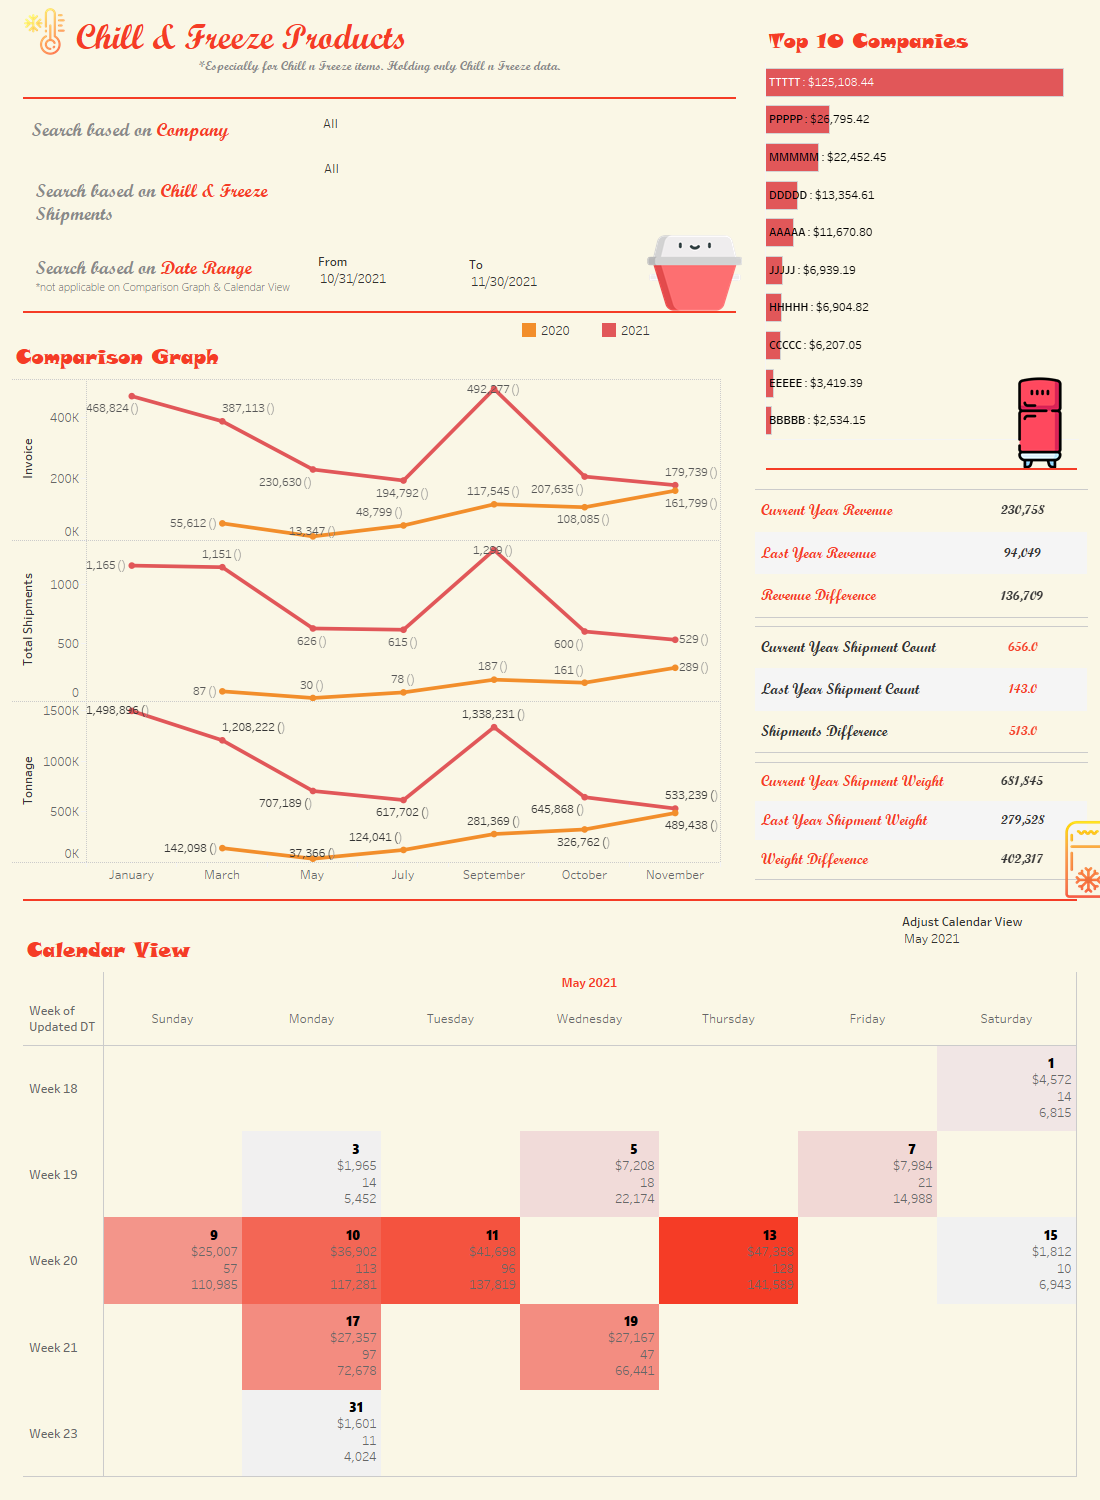

The page's visual inventory and layout, read from the dashboard file:
{"tool":"tableau","page":{"name":"Dashboard","canvas":[1100,1500],"ordinal":0},"visuals":[{"type":"worksheet","box":[0,0,1100,1500]},{"type":"worksheet","param":"horz","box":[8,8,1084,1484]},{"type":"worksheet","box":[8,8,1084,1484]},{"type":"worksheet","box":[8,8,743,74]},{"type":"worksheet","title":"Top 10","mark":"Automatic","rows":["Company"],"cols":["Invoice Total"],"box":[751,8,341,445]},{"type":"worksheet","box":[8,82,743,32]},{"type":"worksheet","box":[29,104,278,51]},{"type":"worksheet","box":[8,114,743,182]},{"type":"worksheet","title":"Line Graph","mark":"Automatic","rows":["Invoice Total","Shipment Id","Total Wt"],"cols":["Updated DT"],"param":"[federated.134bkm10l7k8ly134fc851oywfja].[none:Company:nk]","box":[321,115,187,28]},{"type":"worksheet","title":"Top 10","mark":"Automatic","rows":["Company"],"cols":["Invoice Total"],"param":"[federated.134bkm10l7k8ly134fc851oywfja].[none:Chill and Freeze.:nk]","box":[322,160,160,72]},{"type":"worksheet","box":[33,173,278,58]},{"type":"worksheet","param":"Image/cooler.png","box":[626,225,137,95]},{"type":"worksheet","box":[33,251,264,48]},{"type":"worksheet","param":"[Parameters].[Today Parameter]","box":[318,252,123,44]},{"type":"worksheet","param":"[Parameters].[From (copy)]","box":[469,255,126,44]},{"type":"worksheet","box":[8,296,743,32]},{"type":"worksheet","title":"Line Graph","mark":"Automatic","rows":["Invoice Total","Shipment Id","Total Wt"],"cols":["Updated DT"],"param":"[federated.134bkm10l7k8ly134fc851oywfja].[yr:Updated DT:ok]","box":[519,320,195,27]},{"type":"worksheet","title":"Line Graph","mark":"Automatic","rows":["Invoice Total","Shipment Id","Total Wt"],"cols":["Updated DT"],"box":[8,328,743,555.9]},{"type":"worksheet","param":"Image/fridge.png","box":[994,361,91,124]},{"type":"worksheet","box":[751,453,341,32]},{"type":"worksheet","title":"Revenue Comparison","mark":"Automatic","box":[751,485,341,137]},{"type":"worksheet","title":"Shipments Comparison ","mark":"Automatic","box":[751,622,341,136]},{"type":"worksheet","title":"Weight Comparison","mark":"Automatic","box":[751,758,341,125.9]},{"type":"worksheet","box":[8,883.9,1084,32]},{"type":"worksheet","title":"Calendar","mark":"Square","rows":["Updated DT"],"cols":["Updated DT","Updated DT"],"param":"[federated.134bkm10l7k8ly134fc851oywfja].[my:Updated DT:ok]","box":[902,912,168,68]},{"type":"worksheet","title":"Calendar","mark":"Square","rows":["Updated DT"],"cols":["Updated DT","Updated DT"],"box":[8,915.9,1084,576.1]}]}

Visuals, with their boxes in screenshot pixels (x1, y1, x2, y2), scaled from the page's 1100x1500 canvas onto the 1100x1500 screenshot:
worksheet: box(0, 0, 1099, 1499)
worksheet: box(8, 8, 1092, 1492)
worksheet: box(8, 8, 1092, 1492)
worksheet: box(8, 8, 751, 82)
"Top 10" worksheet: box(751, 8, 1092, 453)
worksheet: box(8, 82, 751, 114)
worksheet: box(29, 104, 307, 155)
worksheet: box(8, 114, 751, 296)
"Line Graph" worksheet: box(321, 115, 508, 143)
"Top 10" worksheet: box(322, 160, 482, 232)
worksheet: box(33, 173, 311, 231)
worksheet: box(626, 225, 763, 320)
worksheet: box(33, 251, 297, 299)
worksheet: box(318, 252, 441, 296)
worksheet: box(469, 255, 595, 299)
worksheet: box(8, 296, 751, 328)
"Line Graph" worksheet: box(519, 320, 714, 347)
"Line Graph" worksheet: box(8, 328, 751, 884)
worksheet: box(994, 361, 1085, 485)
worksheet: box(751, 453, 1092, 485)
"Revenue Comparison" worksheet: box(751, 485, 1092, 622)
"Shipments Comparison " worksheet: box(751, 622, 1092, 758)
"Weight Comparison" worksheet: box(751, 758, 1092, 884)
worksheet: box(8, 884, 1092, 916)
"Calendar" worksheet (Square marks): box(902, 912, 1070, 980)
"Calendar" worksheet (Square marks): box(8, 916, 1092, 1492)
